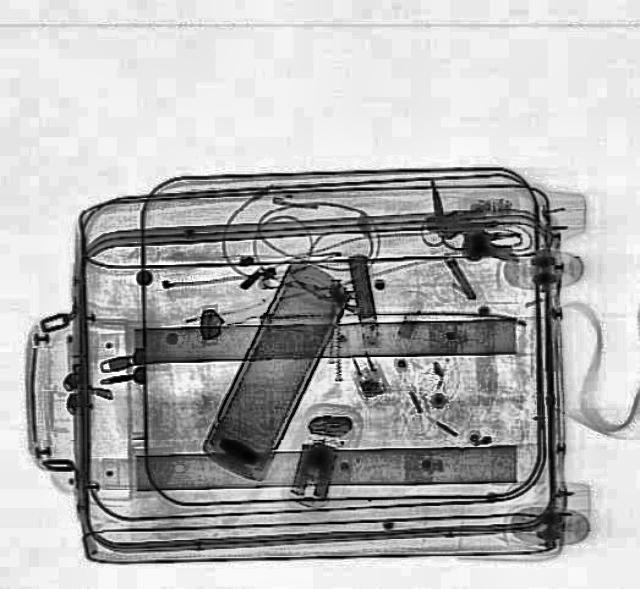Scissors: (408, 176, 468, 252)
